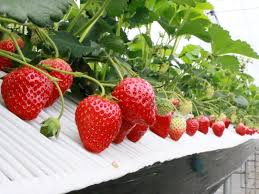ripe: (1, 61, 52, 125), (74, 94, 119, 154), (111, 78, 164, 126), (32, 54, 73, 108), (104, 99, 137, 150), (125, 94, 155, 141), (1, 35, 26, 76), (148, 105, 172, 138), (193, 113, 210, 134), (183, 117, 197, 136), (210, 121, 222, 137)
unripe: (167, 114, 185, 144)
